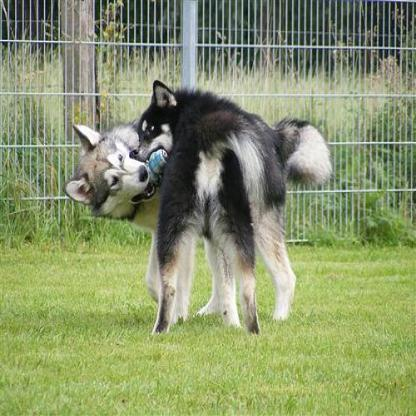malamute: (66, 114, 336, 330), (126, 78, 260, 335)
